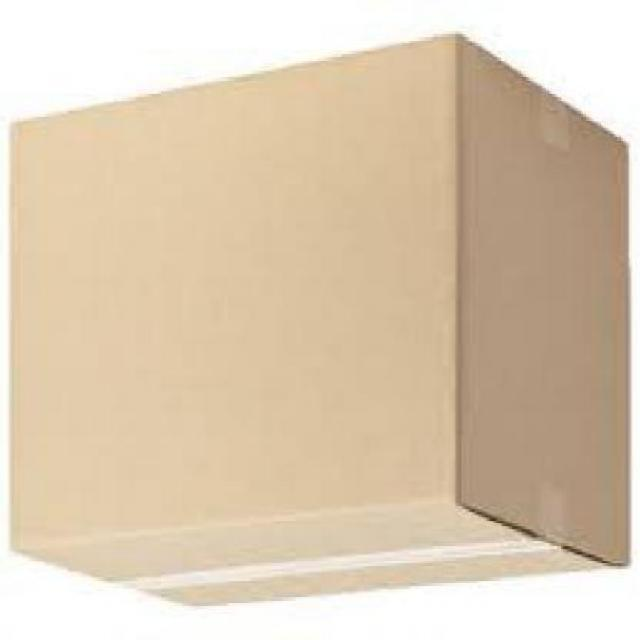box: (6, 34, 629, 612)
